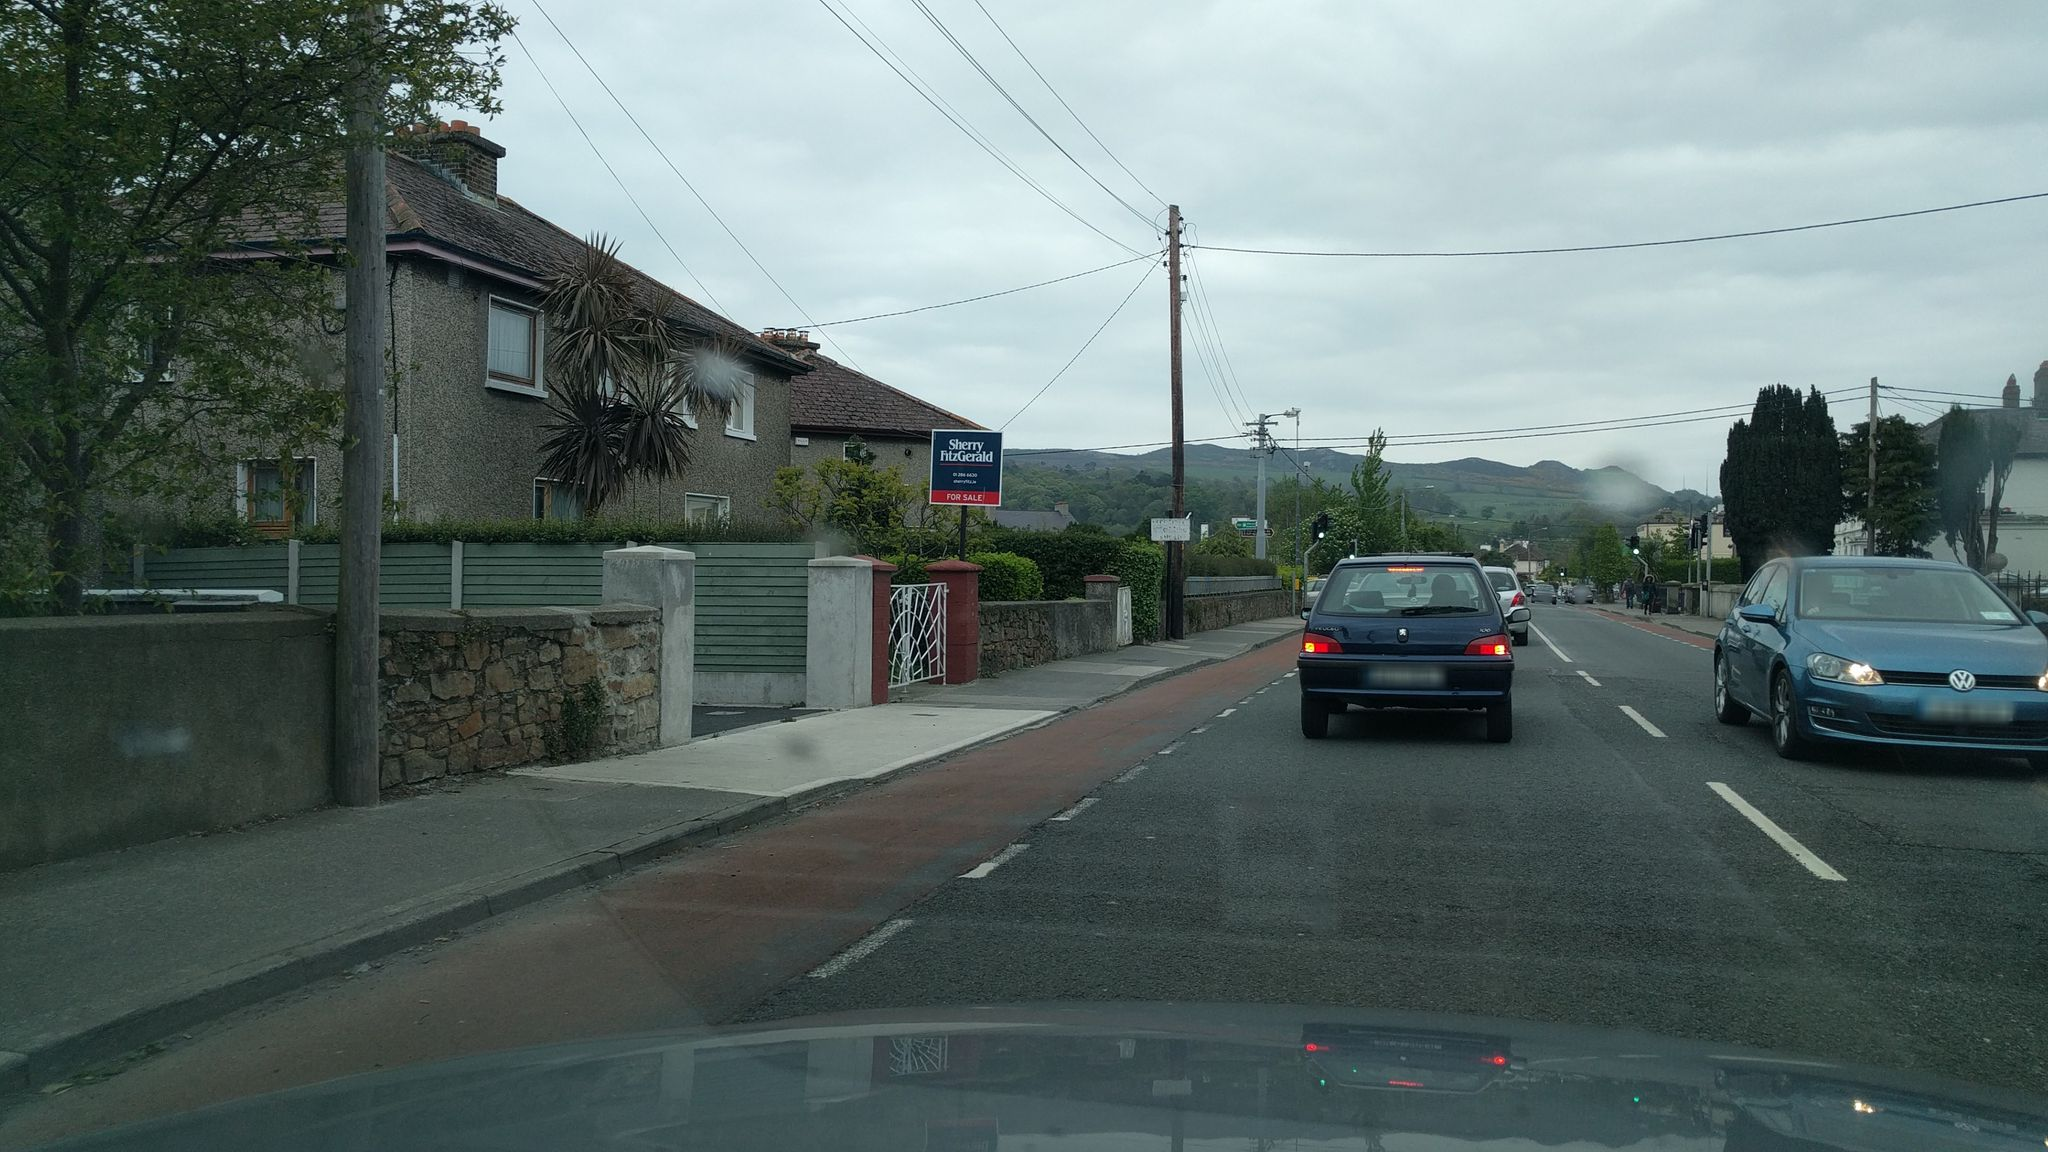property sign: (917, 412, 1038, 520)
